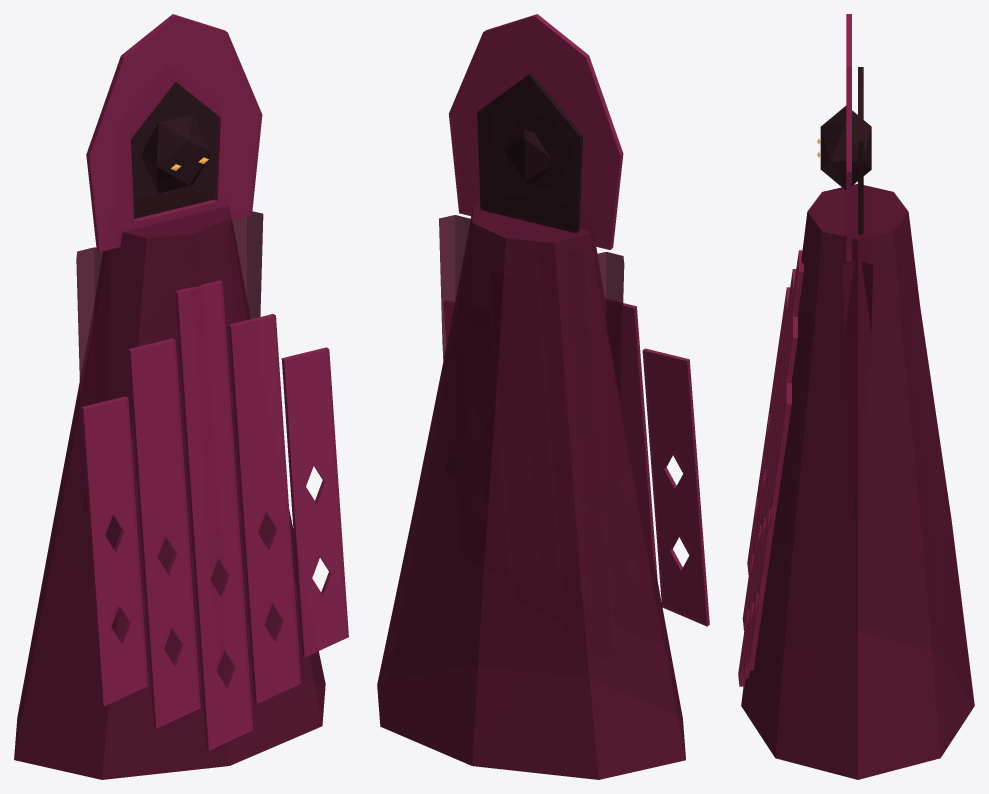
File: anima_velo.glb
3 renders of one model, left to right at view 1: azimuth 30°, elevation 25°; view 2: azimuth 150°, elevation 25°; view 3: azimuth 270°, elevation 25°, orthographic. The views are drawn at different scales.
Visible parts, largest first — view 1: manto_guinda, pano_calado_0, capucha_papel, pano_calado_-1, pano_calado_1, pano_calado_-2, pano_calado_2, interior_oscuro_capucha, object 1, object 6, object 4; view 2: manto_guinda, capucha_papel, pano_calado_-2, interior_oscuro_capucha, pano_calado_-1, object 4, object 6, object 1; view 3: manto_guinda, object 1, pano_calado_2, pano_calado_0, pano_calado_1, capucha_papel, pano_calado_-1, pano_calado_-2, interior_oscuro_capucha, object 4.
Part boxes in pixels (x1,y1,x2,y2): manto_guinda: [14, 206, 325, 779]; pano_calado_0: [175, 280, 252, 750]; capucha_papel: [86, 14, 262, 251]; pano_calado_-1: [128, 338, 200, 728]; pano_calado_1: [228, 314, 300, 703]; pano_calado_-2: [81, 396, 147, 706]; pano_calado_2: [281, 347, 348, 657]; interior_oscuro_capucha: [131, 82, 217, 218]; object 1: [142, 114, 211, 193]; object 6: [76, 247, 106, 400]; object 4: [232, 211, 263, 318]; manto_guinda: [377, 204, 685, 779]; capucha_papel: [449, 14, 623, 249]; pano_calado_-2: [642, 348, 709, 626]; interior_oscuro_capucha: [477, 72, 582, 233]; pano_calado_-1: [621, 303, 657, 579]; object 4: [439, 215, 470, 360]; object 6: [594, 252, 624, 402]; object 1: [506, 129, 550, 184]; manto_guinda: [741, 183, 974, 779]; object 1: [820, 105, 871, 190]; pano_calado_2: [747, 383, 791, 670]; pano_calado_0: [738, 250, 803, 686]; pano_calado_1: [742, 316, 797, 678]; capucha_papel: [846, 14, 851, 261]; pano_calado_-1: [742, 269, 796, 630]; pano_calado_-2: [747, 287, 789, 574]; interior_oscuro_capucha: [858, 67, 863, 234]; object 4: [842, 262, 872, 400].
Size of the model in its own units: 0.9 by 1.96 by 0.6076.
